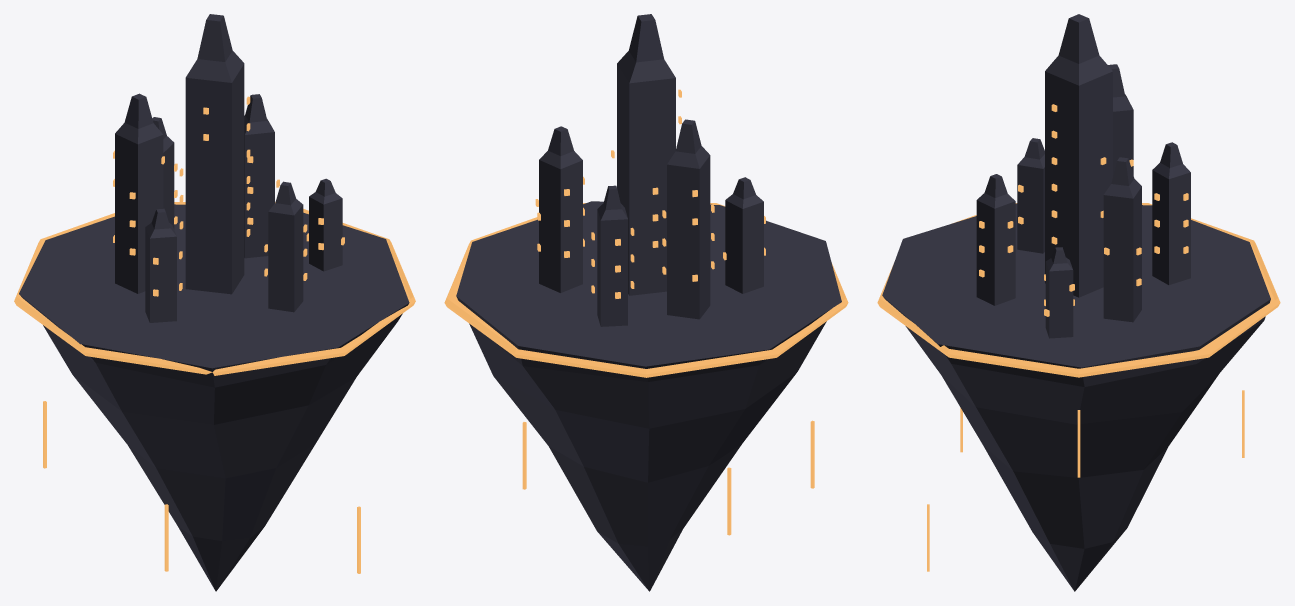
File: Distant_04_quest.glb
3 views of the same model, side by side, from view 1: azimuth 30°, elevation 25°; view 2: azimuth 150°, elevation 25°; view 3: azimuth 270°, elevation 25° (orthographic).
Visible parts, largest first — view 1: Distant_04_Body, Distant_04_Lights; view 2: Distant_04_Body, Distant_04_Lights; view 3: Distant_04_Body, Distant_04_Lights.
Boxes of the visible parts, x1,y1,x2,y2 form: Distant_04_Body: (19,14,409,591); Distant_04_Lights: (14,96,415,573); Distant_04_Body: (456,14,841,591); Distant_04_Lights: (444,89,848,535); Distant_04_Body: (882,14,1270,591); Distant_04_Lights: (877,104,1280,571).
Size of the model in its own units: 163 by 260 by 165.
